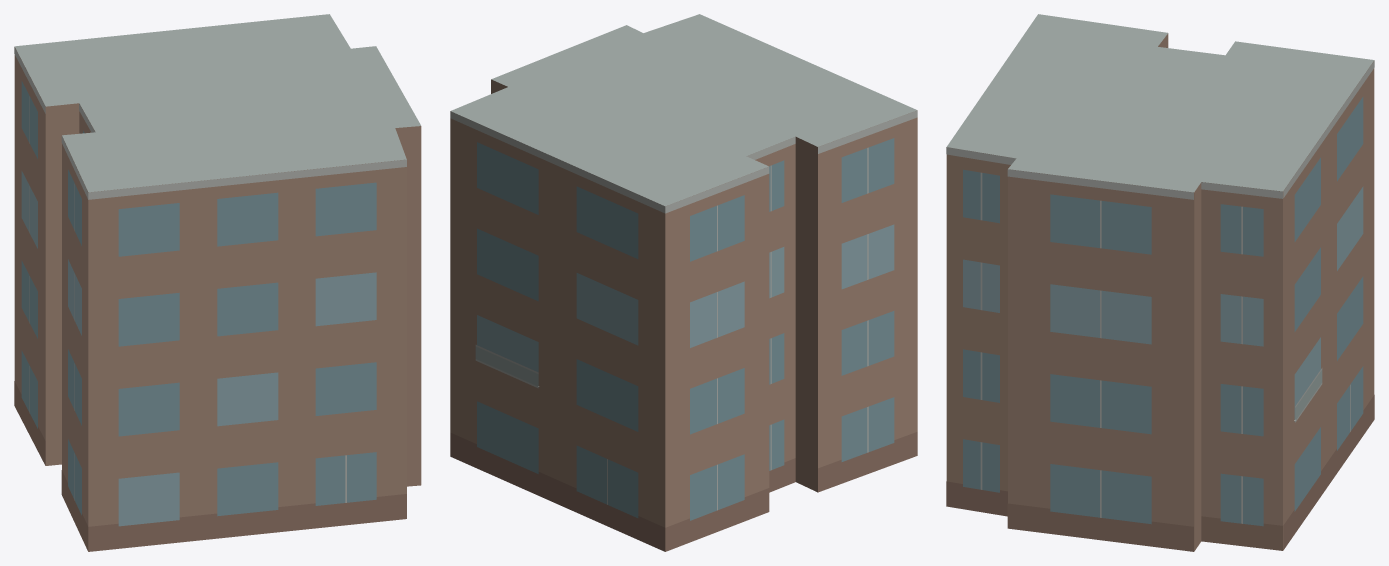
Rendered from survey-upis-32935043.glb.
3 views of the same model, side by side, from view 1: azimuth 30°, elevation 25°; view 2: azimuth 150°, elevation 25°; view 3: azimuth 270°, elevation 25° (orthographic). The views are drawn at different scales.
Parts seen in each view (by area): view 1: survey-upis-32935043.tmp; view 2: survey-upis-32935043.tmp; view 3: survey-upis-32935043.tmp.
Boxes of the visible parts, <box> form: survey-upis-32935043.tmp: <box>14,14,421,551</box>; survey-upis-32935043.tmp: <box>450,14,917,551</box>; survey-upis-32935043.tmp: <box>946,14,1374,551</box>.
Size of the model in its own units: 12.52 by 11.75 by 12.69.
